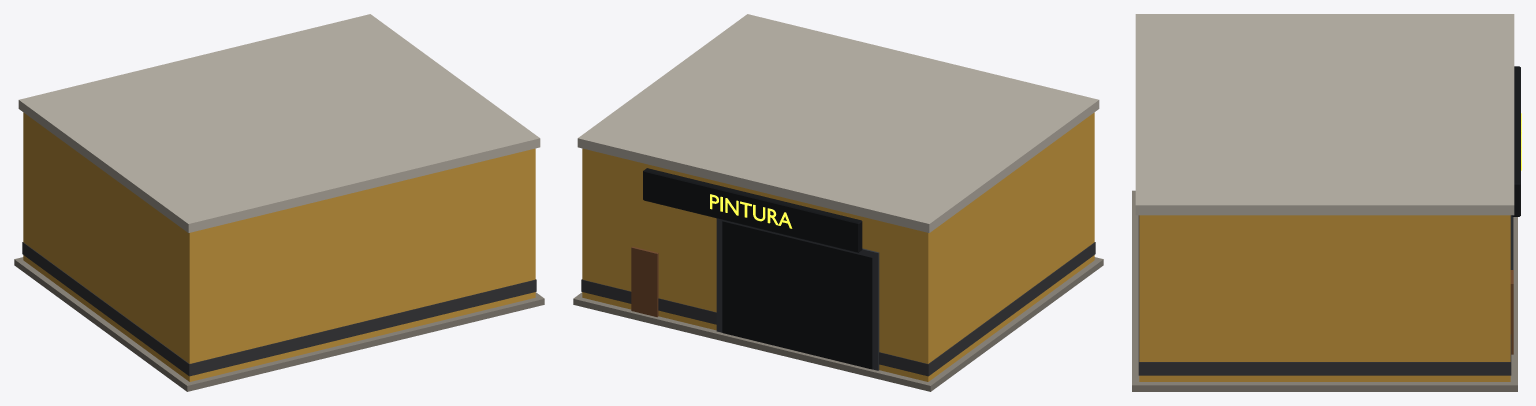
Rendered from oficina_pintura.glb.
3 views of the same model, side by side, from view 1: azimuth 30°, elevation 25°; view 2: azimuth 150°, elevation 25°; view 3: azimuth 270°, elevation 25° (orthographic). The views are drawn at different scales.
Parts seen in each view (by area): view 1: oficina_pintura_corpo; view 2: oficina_pintura_corpo, letreiro; view 3: oficina_pintura_corpo.
Boxes of the visible parts, <box> form: oficina_pintura_corpo: <box>14,14,544,391</box>; oficina_pintura_corpo: <box>573,14,1103,391</box>; letreiro: <box>710,194,792,228</box>; oficina_pintura_corpo: <box>1132,14,1520,391</box>.
Bounding box in the file's own units: 12.4 × 5.5 × 10.5.
